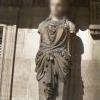Statue: (28, 2, 86, 100)
